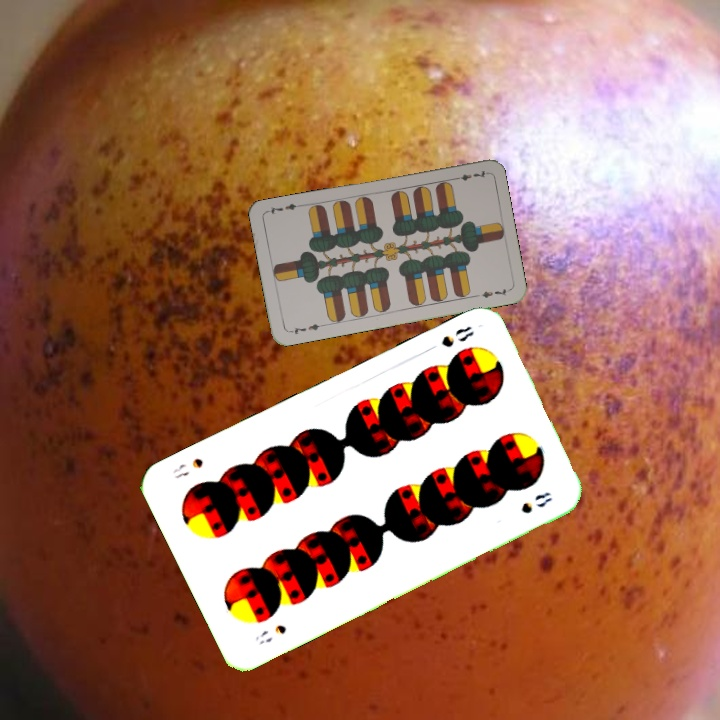E7: (285, 320, 326, 337), (449, 167, 489, 183)
S8: (437, 322, 477, 350), (251, 621, 289, 647)
